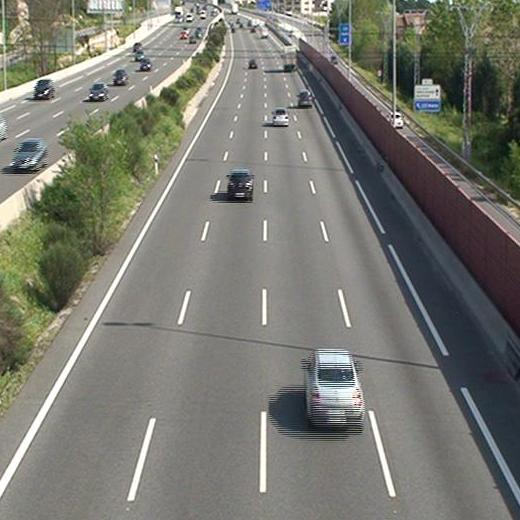car: (305, 349, 364, 425), (227, 170, 254, 200), (271, 108, 289, 126), (296, 90, 313, 107), (247, 59, 257, 69)
small-truck: (282, 46, 298, 70)
